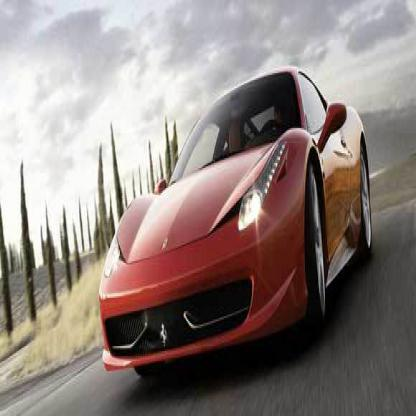car: (99, 68, 374, 371)
